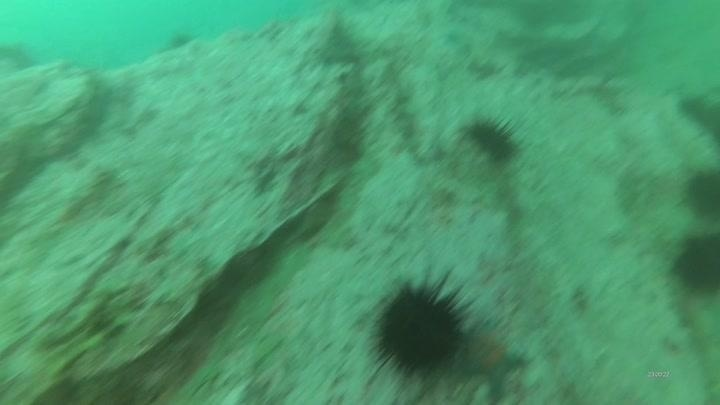echinus: (367, 272, 474, 382), (669, 229, 720, 298), (463, 113, 523, 165), (675, 90, 720, 142), (681, 165, 720, 222), (165, 26, 204, 56)
starfish: (453, 317, 531, 403)
